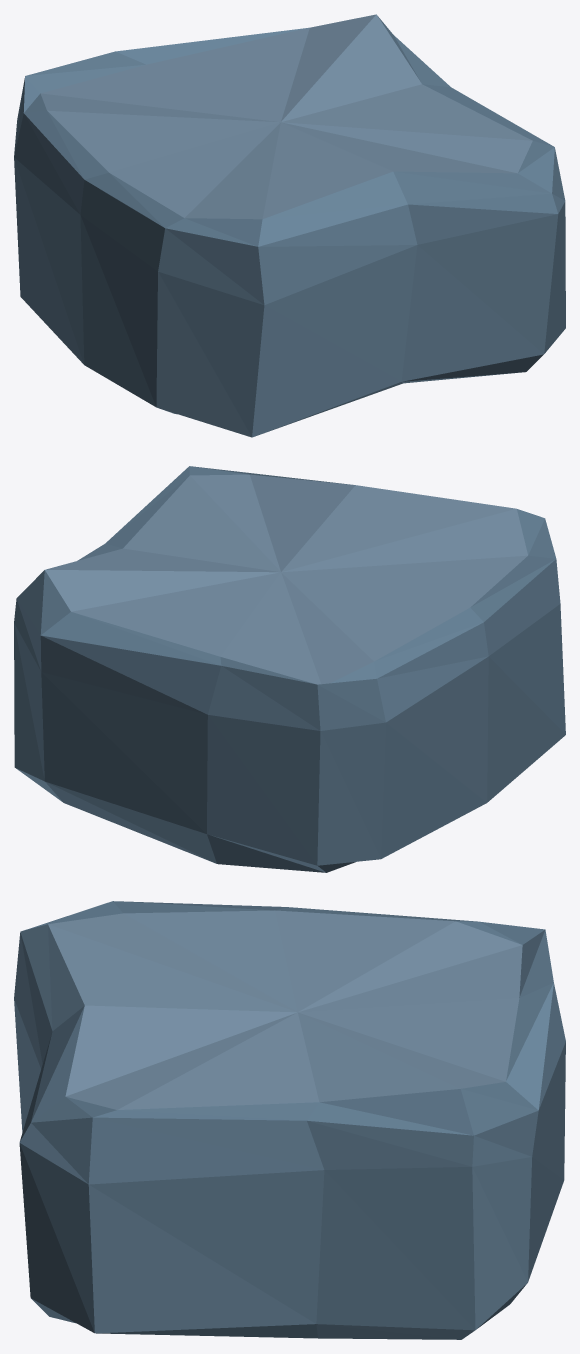
Rendered from rock2.glb.
3 views of the same model, one above another, from view 1: azimuth 30°, elevation 25°; view 2: azimuth 150°, elevation 25°; view 3: azimuth 270°, elevation 25° (orthographic). The views are drawn at different scales.
Visible parts, largest first — view 1: rock2; view 2: rock2; view 3: rock2.
Boxes of the visible parts, left/top/right/bottom form: rock2: left=14, top=14, right=565, bottom=437; rock2: left=14, top=466, right=565, bottom=872; rock2: left=14, top=901, right=565, bottom=1339.
Size of the model in its own units: 2.07 by 1.11 by 2.18.
